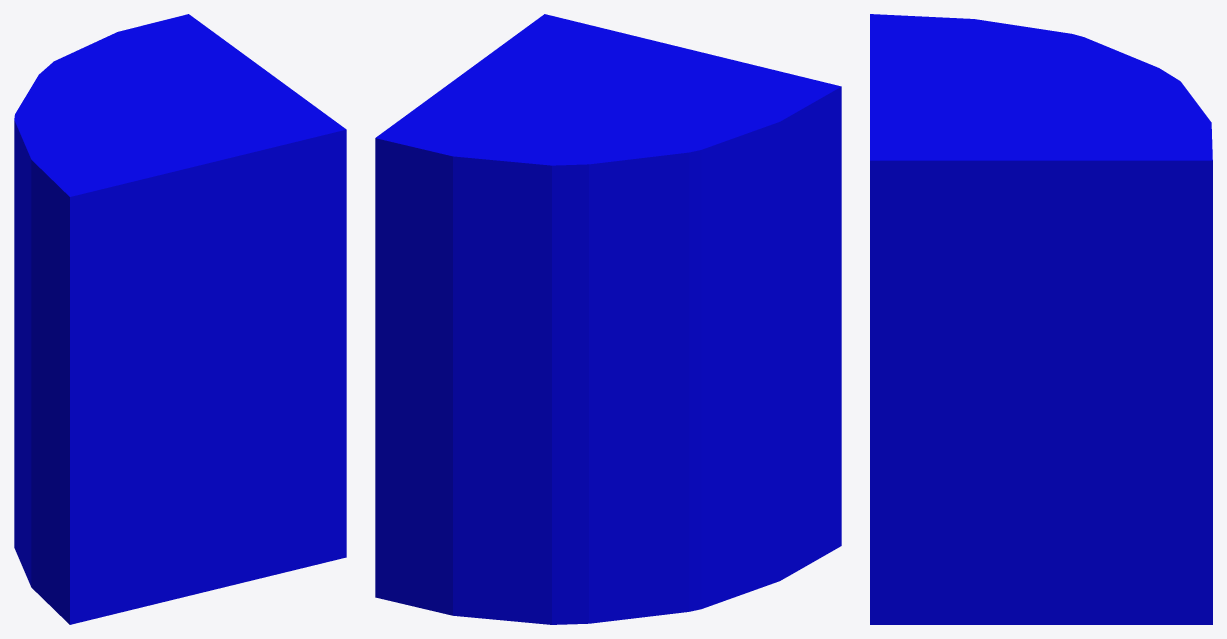
The model's file is pezzoTetris11.fbx.
The picture shows the model from 3 angles, left to right: view 1: azimuth 30°, elevation 25°; view 2: azimuth 150°, elevation 25°; view 3: azimuth 270°, elevation 25°; orthographic projection. The views are drawn at different scales.
Parts seen in each view (by area): view 1: Cube.001; view 2: Cube.001; view 3: Cube.001.
Part boxes in pixels (left/top/right/bottom): Cube.001: left=14, top=14, right=346, bottom=624; Cube.001: left=375, top=14, right=841, bottom=624; Cube.001: left=870, top=14, right=1212, bottom=624.
Size of the model in its own units: 13.26 by 19.59 by 13.11.
